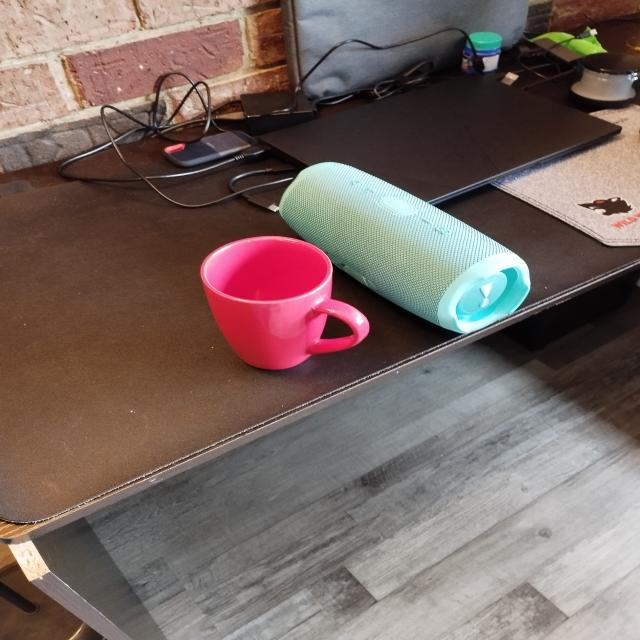Cup: (180, 230, 389, 376)
